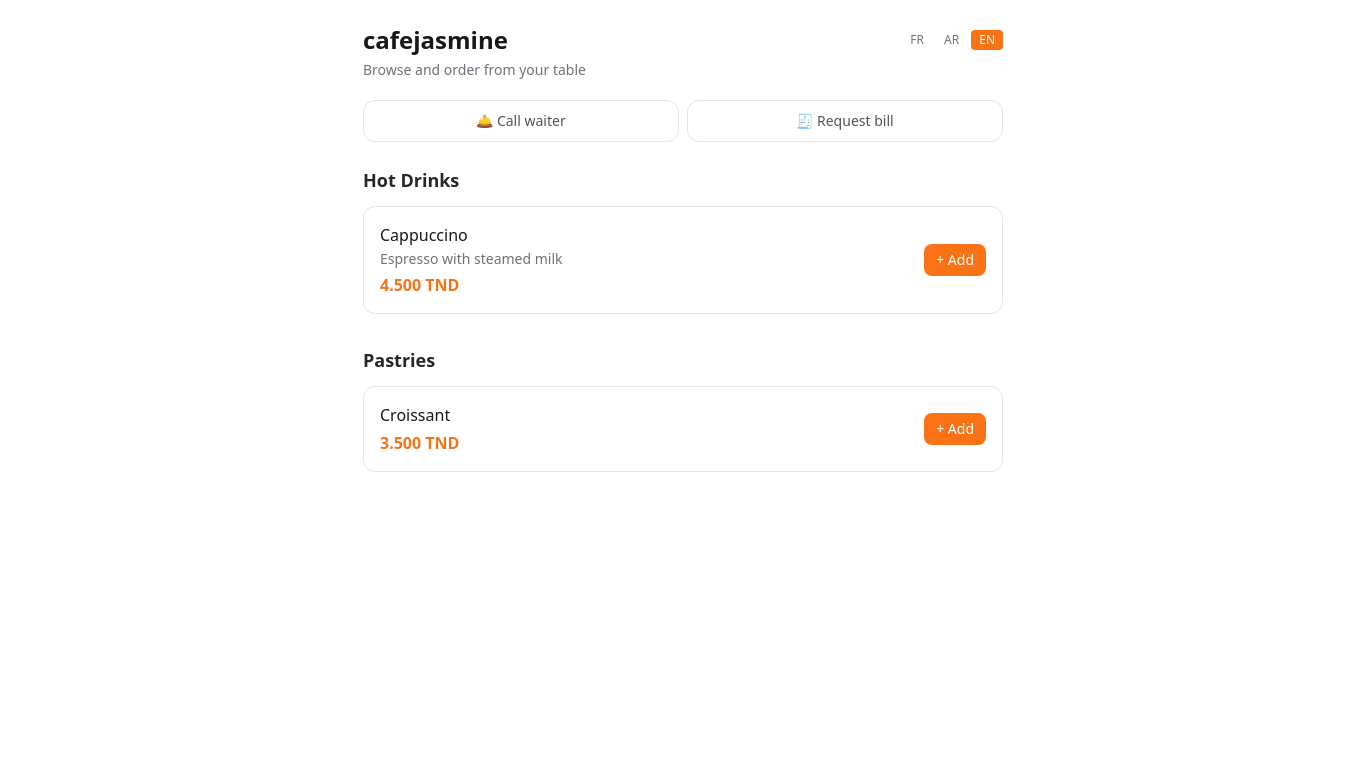
Scenario: CustomerMenu › increments cart count when same item added again
Expected: the text "Cappuccino" is shown, top-left (380, 224), bottom-right (468, 246)
Step 1. Click the button "+ Add" in the row of "Espresso with steamed milk" → (955, 260), box top-left (924, 244), bottom-right (986, 276)
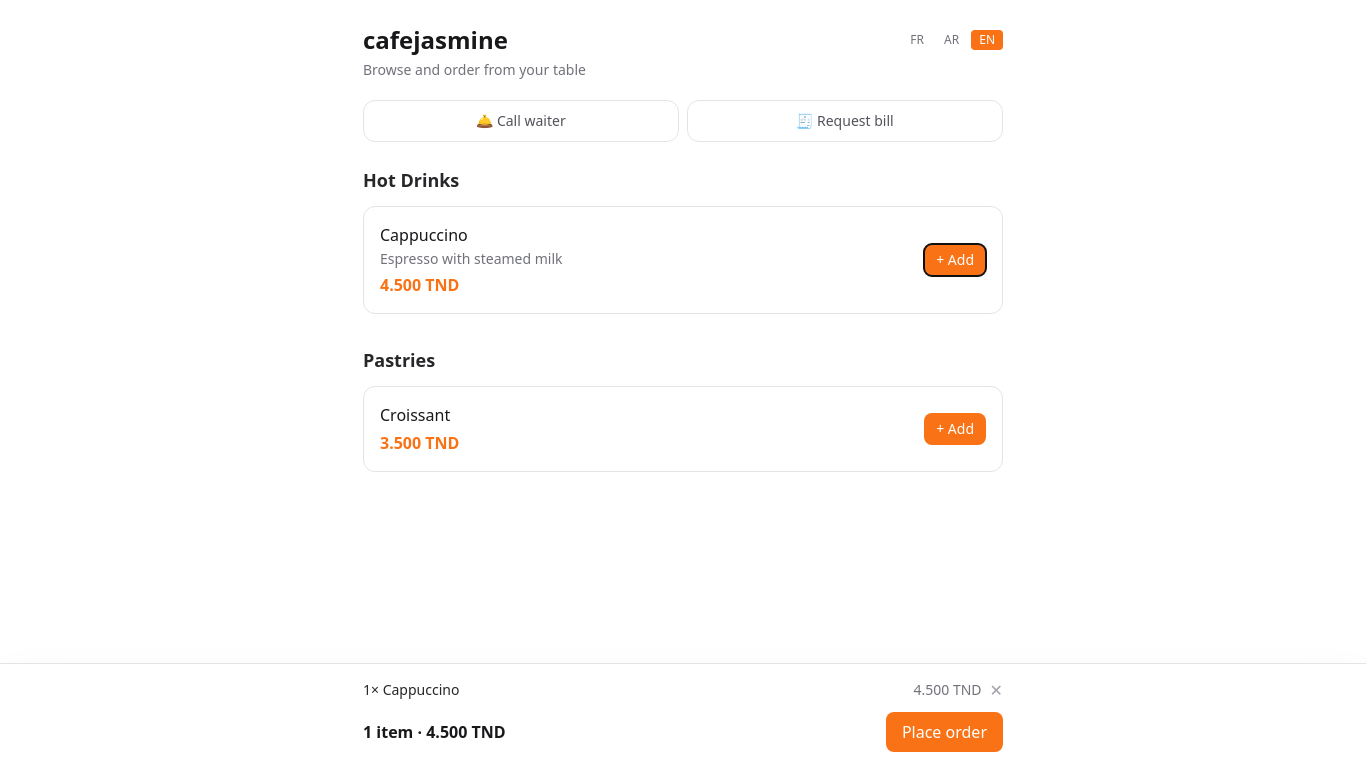
Step 2. Click the button "+ Add" in the row of "Espresso with steamed milk" → (955, 260), box top-left (924, 244), bottom-right (986, 276)
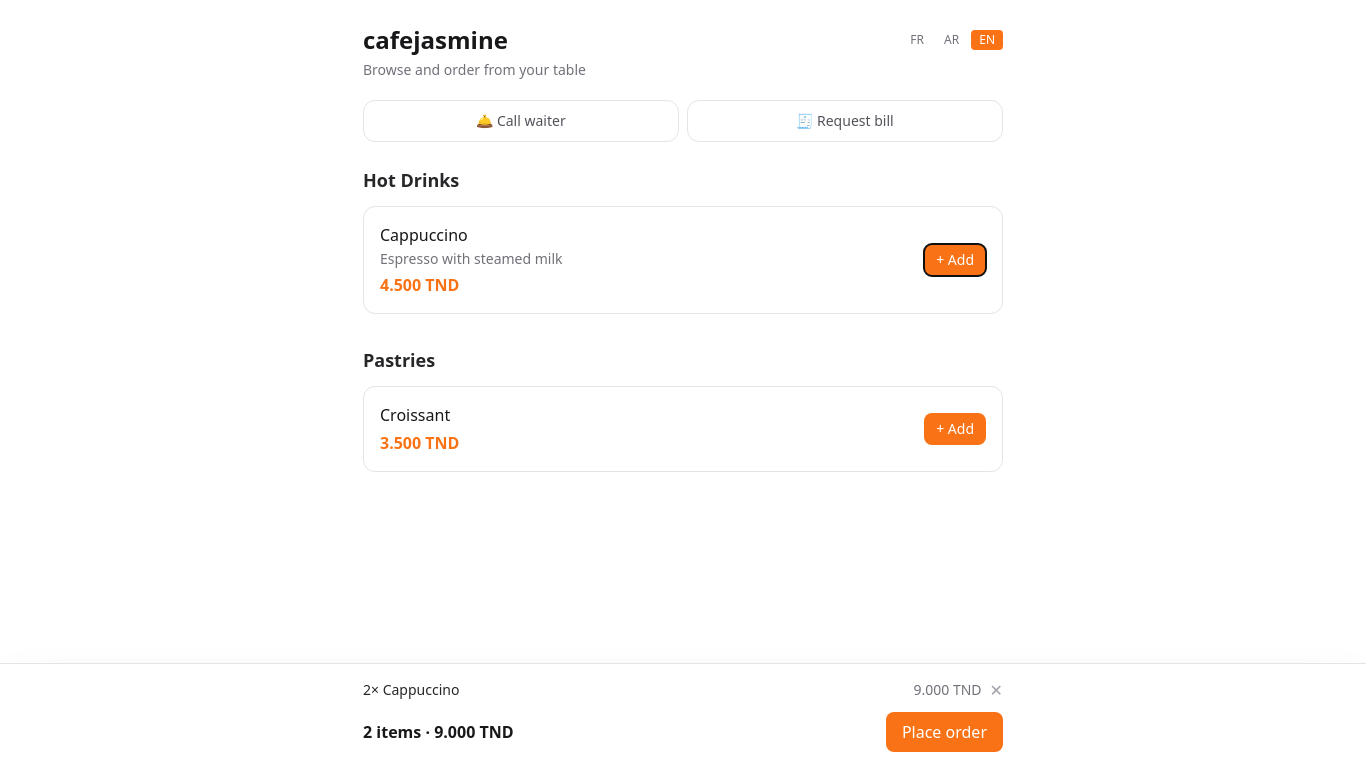
Result: the text "2× Cappuccino" is shown at top-left (363, 680), bottom-right (459, 699)
